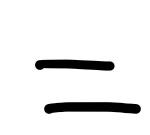eqv: (35, 59, 141, 114)
